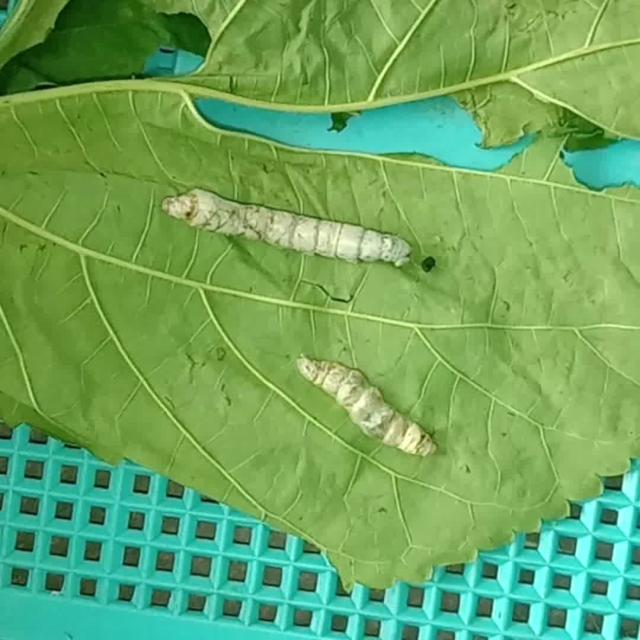Grasserie: (142, 153, 423, 295), (292, 340, 449, 475)
